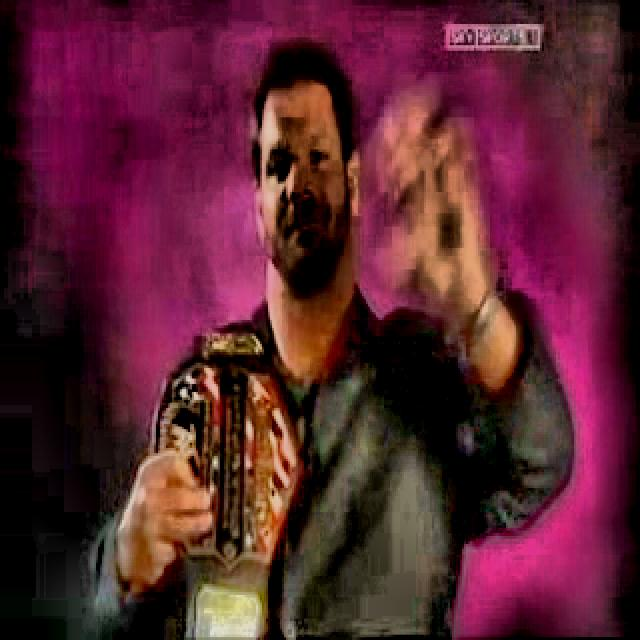L: (89, 45, 570, 638)
